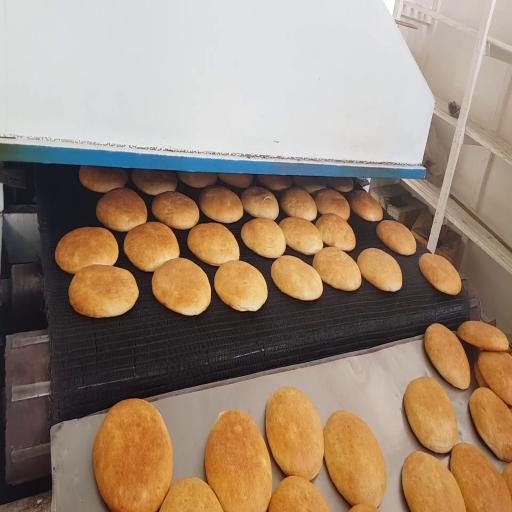bread: (93, 399, 172, 511), (205, 411, 272, 511), (325, 411, 386, 506), (266, 387, 323, 480), (450, 443, 511, 511), (404, 377, 457, 453), (402, 451, 465, 511), (69, 265, 138, 318), (152, 258, 211, 315), (470, 388, 511, 462), (424, 324, 470, 389), (55, 228, 118, 274), (124, 222, 179, 271), (215, 260, 267, 311), (271, 256, 322, 300), (188, 223, 239, 266), (96, 188, 147, 231), (269, 476, 330, 511), (313, 247, 361, 291), (160, 477, 222, 511), (357, 248, 402, 292), (419, 253, 461, 295), (241, 218, 285, 258), (478, 351, 511, 404), (152, 192, 199, 229), (279, 218, 323, 255), (199, 186, 243, 223), (457, 321, 508, 351), (316, 214, 355, 251), (376, 220, 416, 255), (79, 166, 127, 192), (281, 187, 317, 221), (241, 187, 278, 220), (132, 170, 177, 195), (315, 189, 350, 220), (350, 191, 383, 221), (177, 172, 217, 188), (293, 176, 326, 193), (258, 175, 292, 191), (218, 174, 253, 188), (474, 360, 489, 387), (327, 177, 353, 192), (503, 464, 511, 495), (350, 504, 378, 511)
